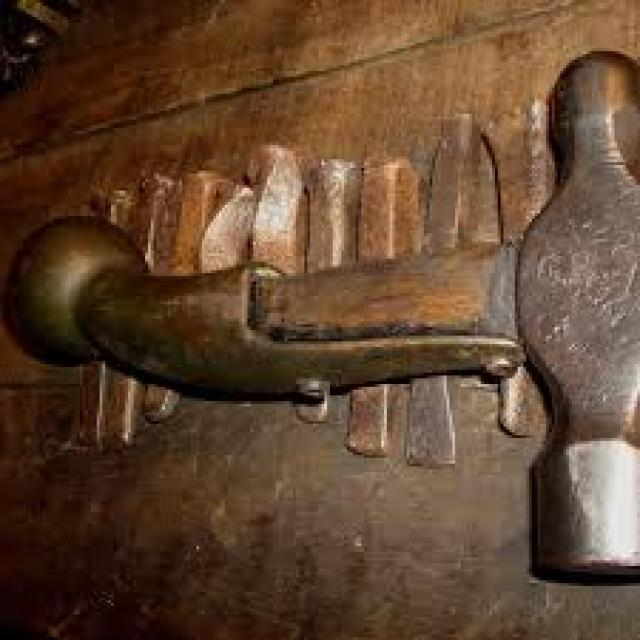hammer: (8, 46, 640, 590)
